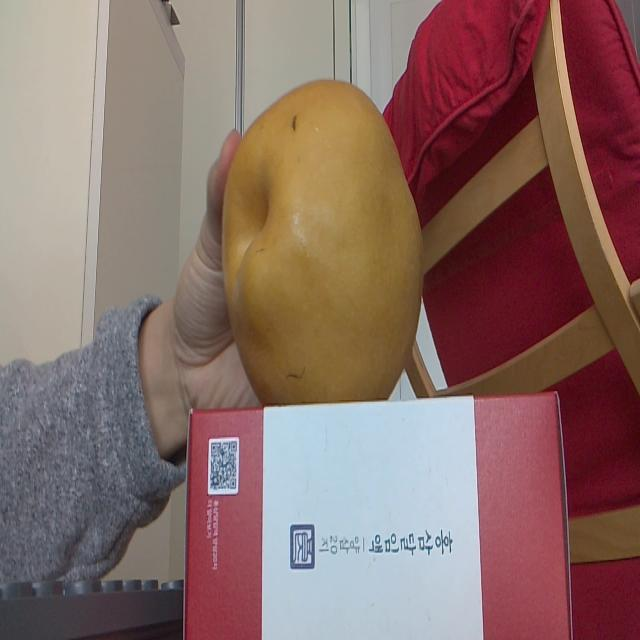pear: (221, 76, 424, 406)
